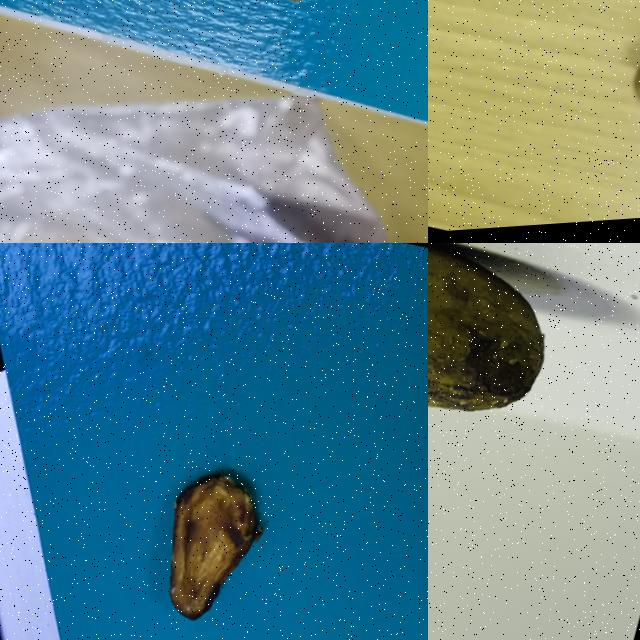Fine_cocoabeans: (428, 243, 620, 490)
Flat_cocoabeans: (61, 393, 373, 639), (65, 0, 412, 96)
